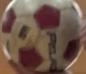Sports-Ball: (2, 0, 83, 68)
